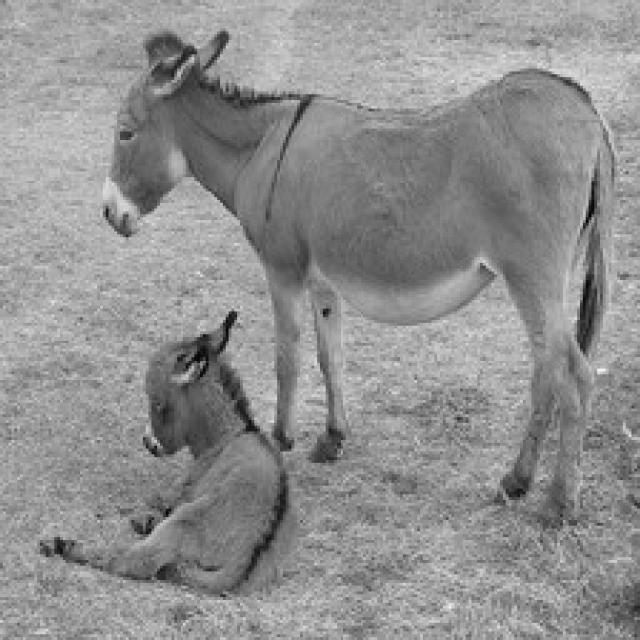Donkey: (100, 26, 617, 528), (37, 309, 297, 597)
